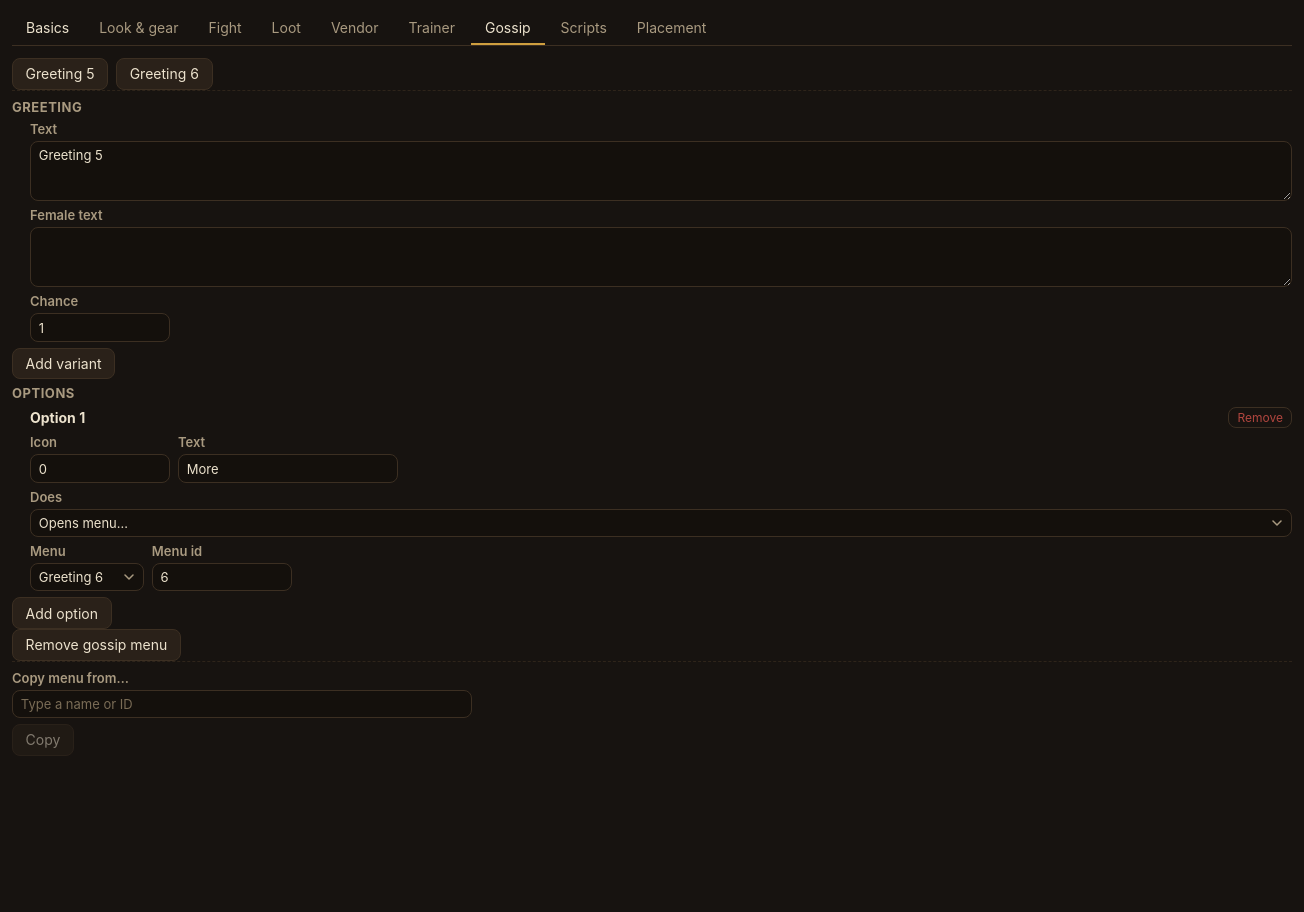
the Gossip tab: making and editing a menu › switches between the NPC's menus, and removes a menu other than the first
This screenshot has width=1304, height=912.
Click the button "Greeting 6".
click(164, 74)  # box [116, 58, 213, 90]
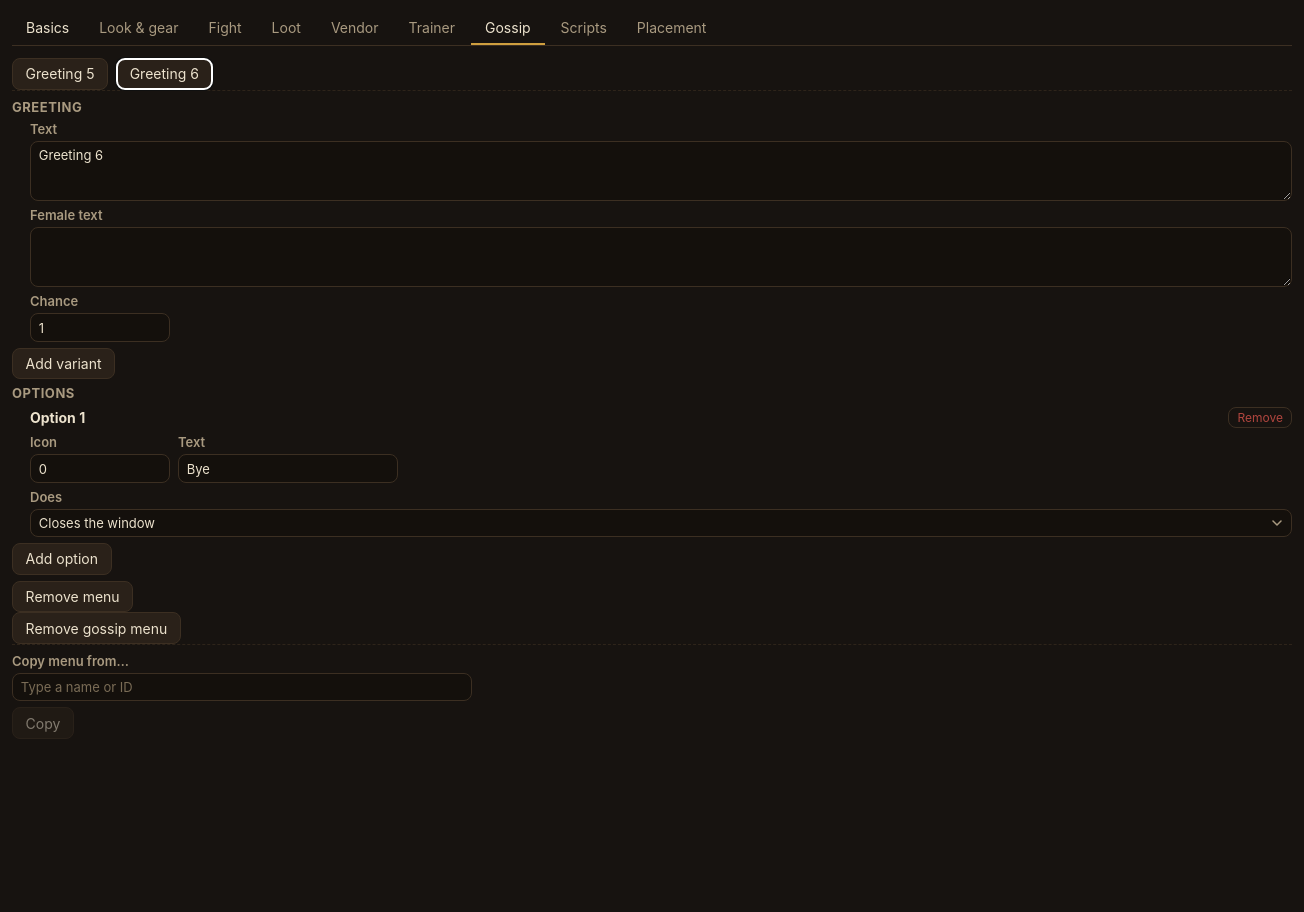
Expected: the text box labelled "Text" holds "Greeting 6", [30, 141, 1292, 201]
Click the button "Remove menu".
click(73, 596)  # box [12, 581, 133, 612]
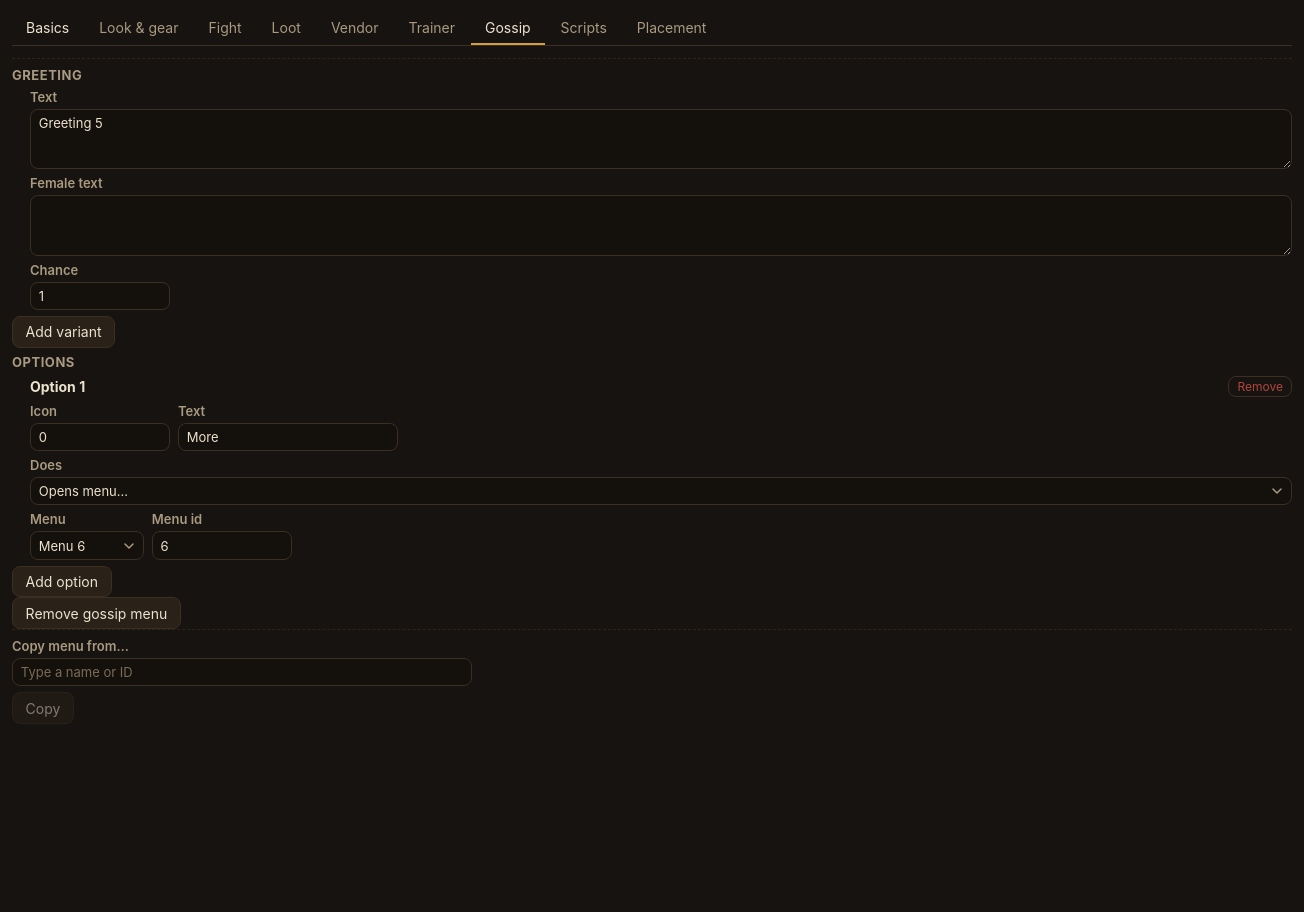
Expected: the button "Remove menu" is gone
